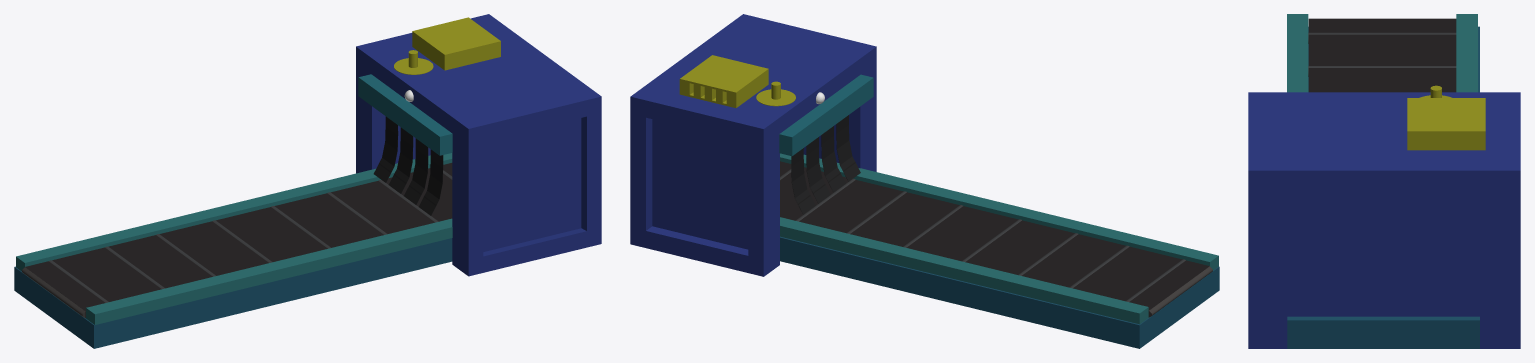
The model's file is Convere belt.fbx.
The picture shows the model from 3 angles, left to right: view 1: azimuth 30°, elevation 25°; view 2: azimuth 150°, elevation 25°; view 3: azimuth 270°, elevation 25°; orthographic projection. The views are drawn at different scales.
Visible parts, largest first — view 1: Cube.002, Cube.026, Cube.001, Cube.025, Cube.024, Cube.023, Cube.012, Cylinder.006, Cube.005, Cube.006, Cube.004, Cube (+2 smaller); view 2: Cube.002, Cube.026, Cube.001, Cube.024, Cube.025, Cube.023, Cube.012, Cylinder.006, Cube.005, Cube.006, Cube.004, Cube (+2 smaller); view 3: Cube.002, Cube.026, Cube.001, Cube.023, Cube.024, Cube.025, Cylinder.006.
Part boxes in pixels (x1=…): Cube.002: x1=356, y1=14, x2=601, y2=276; Cube.026: x1=25, y1=163, x2=452, y2=317; Cube.001: x1=14, y1=238, x2=452, y2=348; Cube.025: x1=86, y1=218, x2=452, y2=324; Cube.024: x1=16, y1=153, x2=452, y2=270; Cube.023: x1=412, y1=17, x2=500, y2=70; Cube.012: x1=358, y1=74, x2=452, y2=155; Cylinder.006: x1=49, y1=170, x2=452, y2=302; Cube.005: x1=404, y1=138, x2=428, y2=204; Cube.006: x1=419, y1=149, x2=443, y2=215; Cube.004: x1=388, y1=127, x2=413, y2=193; Cube: x1=373, y1=116, x2=398, y2=182; Cube.002: x1=630, y1=14, x2=876, y2=276; Cube.026: x1=780, y1=161, x2=1209, y2=317; Cube.001: x1=780, y1=236, x2=1219, y2=348; Cube.024: x1=780, y1=217, x2=1148, y2=324; Cube.025: x1=780, y1=153, x2=1218, y2=270; Cube.023: x1=679, y1=55, x2=768, y2=107; Cube.012: x1=779, y1=74, x2=873, y2=156; Cylinder.006: x1=780, y1=169, x2=1185, y2=301; Cube.005: x1=821, y1=126, x2=845, y2=192; Cube.006: x1=836, y1=115, x2=860, y2=181; Cube.004: x1=806, y1=137, x2=830, y2=203; Cube: x1=791, y1=148, x2=815, y2=214; Cube.002: x1=1248, y1=92, x2=1520, y2=348; Cube.026: x1=1308, y1=18, x2=1456, y2=92; Cube.001: x1=1287, y1=26, x2=1479, y2=348; Cube.023: x1=1407, y1=98, x2=1485, y2=150; Cube.024: x1=1456, y1=14, x2=1477, y2=92; Cube.025: x1=1287, y1=14, x2=1308, y2=92; Cylinder.006: x1=1308, y1=32, x2=1456, y2=76.
Bounding box in the file's own units: 1777 × 554 × 693.
